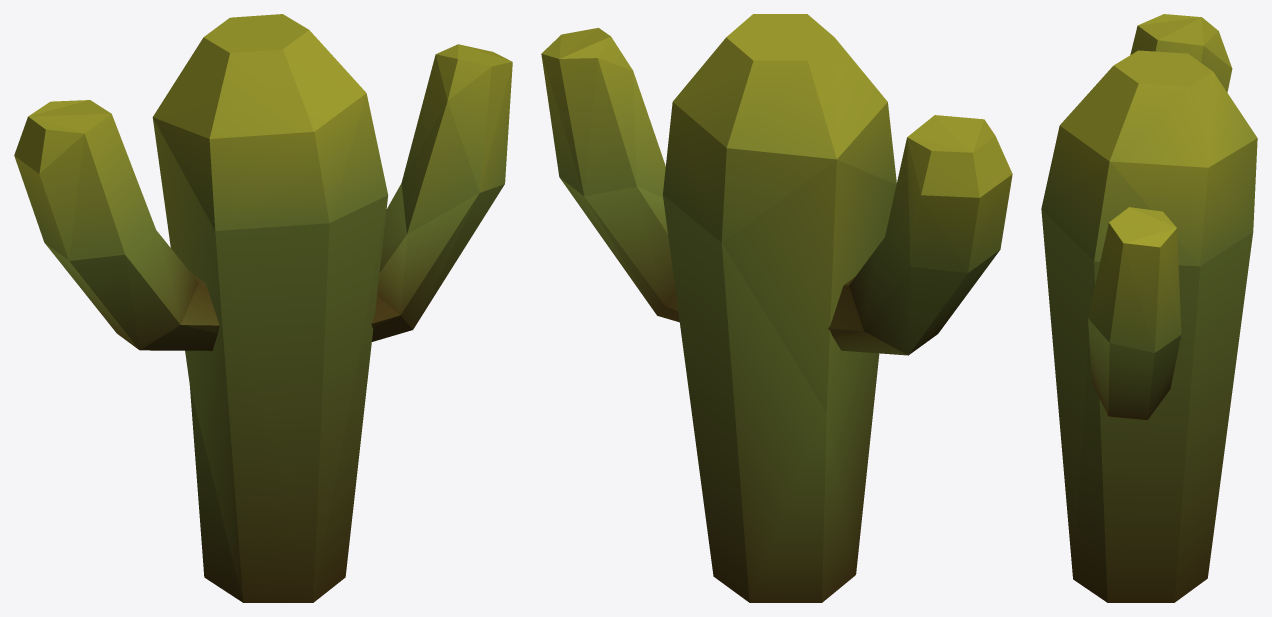
The model's file is Mixed_Cactus_04.fbx.
3 renders of one model, left to right at view 1: azimuth 30°, elevation 25°; view 2: azimuth 150°, elevation 25°; view 3: azimuth 270°, elevation 25°, orthographic. The views are drawn at different scales.
Parts seen in each view (by area): view 1: Cactus_04.001; view 2: Cactus_04.001; view 3: Cactus_04.001.
Part boxes in pixels (left/top/right/bottom): Cactus_04.001: left=14, top=14, right=512, bottom=602; Cactus_04.001: left=541, top=14, right=1012, bottom=602; Cactus_04.001: left=1041, top=14, right=1257, bottom=602.
Size of the model in its own units: 194 by 219 by 84.13.
